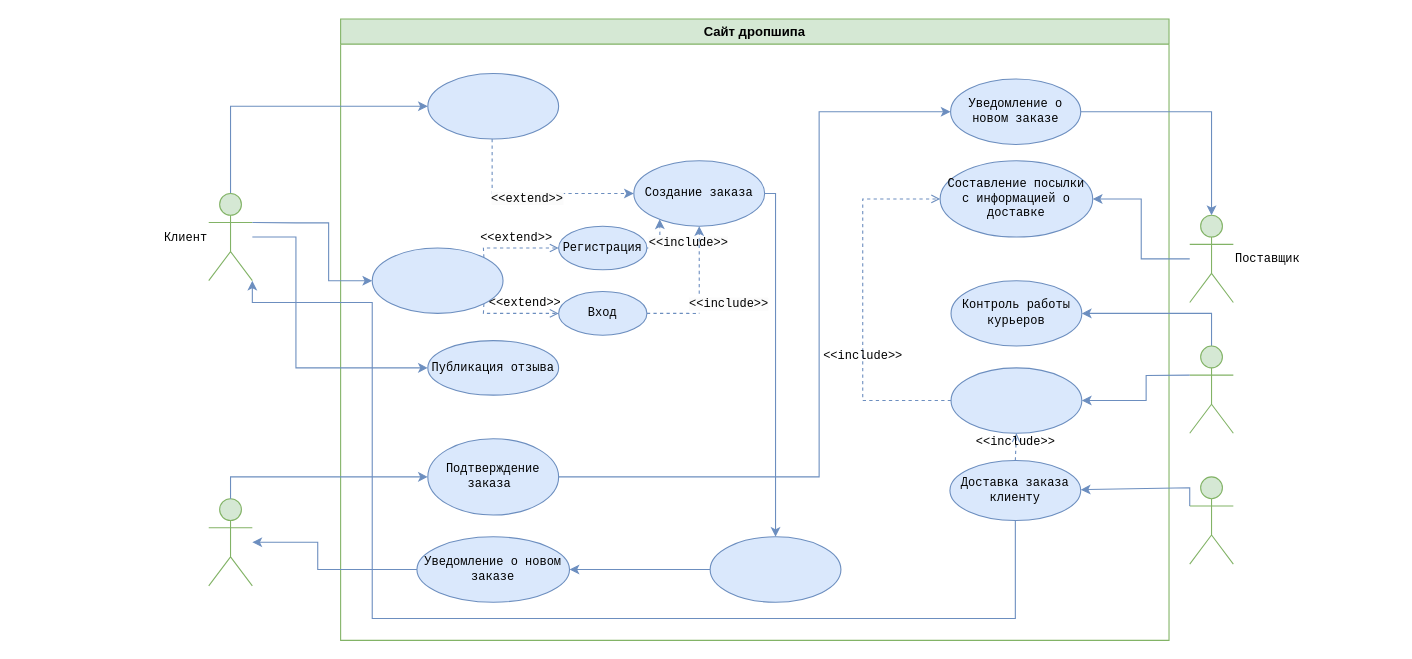
This 1412x659 diagram has some shape labels left out. Each missing label, with the centre of its shape:
"Авторизация" goes at point (437, 280).
"Администратор доставки" goes at point (1211, 389).
"Бот переадресвции проверки" goes at point (230, 542).
"Курьер" goes at point (1211, 520).
"Назначение курьера" goes at point (1016, 400).
"Опдата" goes at point (775, 569).
"Просмотр товаров" goes at point (493, 105).
